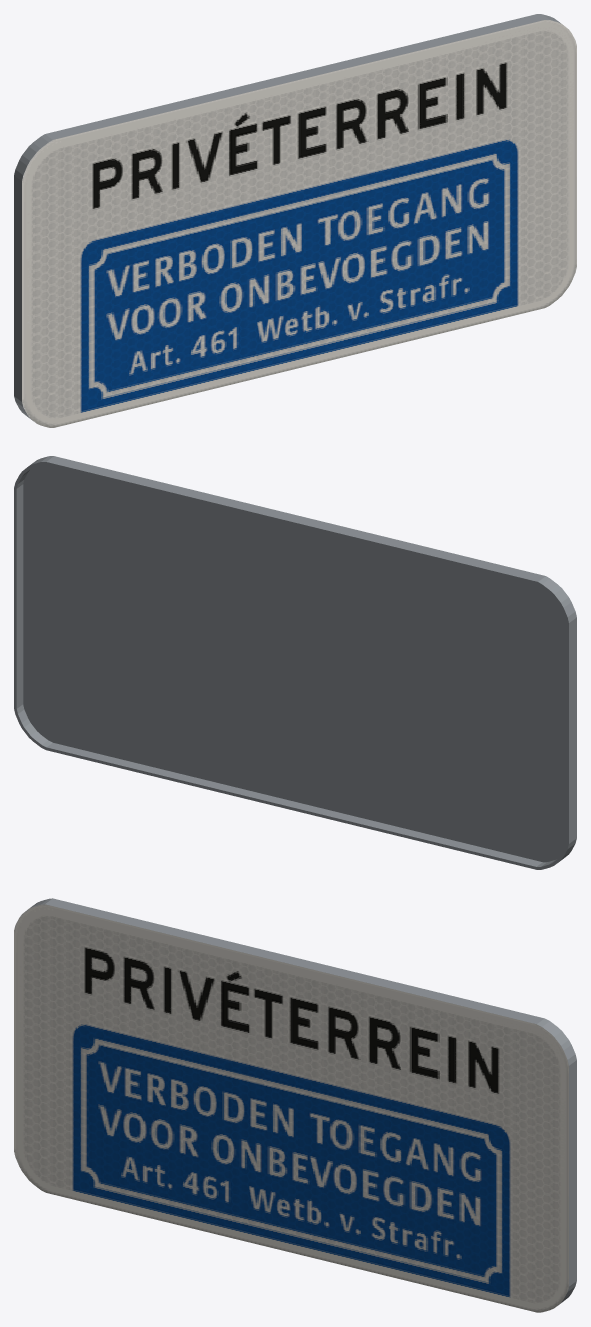
3 views of the same model, one above another, from view 1: azimuth 30°, elevation 25°; view 2: azimuth 150°, elevation 25°; view 3: azimuth 330°, elevation 25° (orthographic).
Parts seen in each view (by area): view 1: cat_a2f515dbc0ef7770; view 2: cat_a2f515dbc0ef7770; view 3: cat_a2f515dbc0ef7770.
Boxes of the visible parts, bbox=[...] form: cat_a2f515dbc0ef7770: bbox=[14, 14, 576, 427]; cat_a2f515dbc0ef7770: bbox=[14, 456, 576, 869]; cat_a2f515dbc0ef7770: bbox=[14, 898, 576, 1312].
Bounding box in the file's own units: 0.6 × 0.015 × 0.2978.
2 materials, 1 textured.
